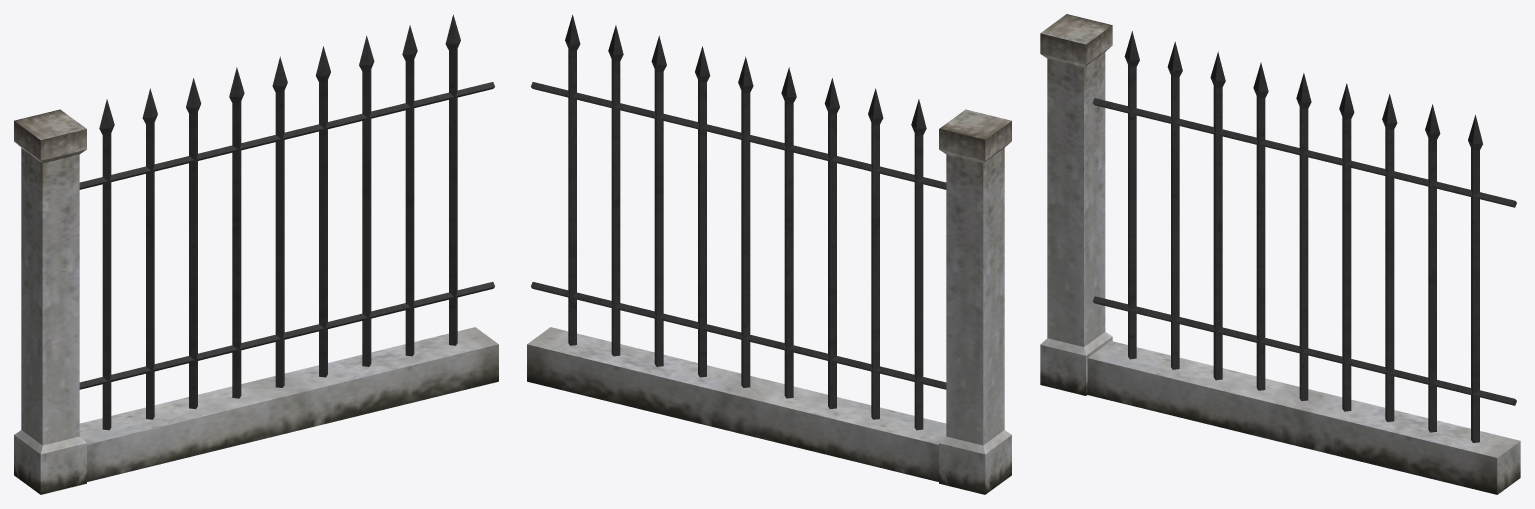
File: fence1.glb
3 renders of one model, left to right at view 1: azimuth 30°, elevation 25°; view 2: azimuth 150°, elevation 25°; view 3: azimuth 330°, elevation 25°, orthographic.
Parts seen in each view (by area): view 1: Fence_1; view 2: Fence_1; view 3: Fence_1.
Part boxes in pixels (x1,y1,x2,y2): Fence_1: [14, 14, 498, 494]; Fence_1: [527, 14, 1011, 494]; Fence_1: [1040, 14, 1520, 494].
Bounding box in the file's own units: 362 × 273 × 36.03.
2 materials, 2 textured.
